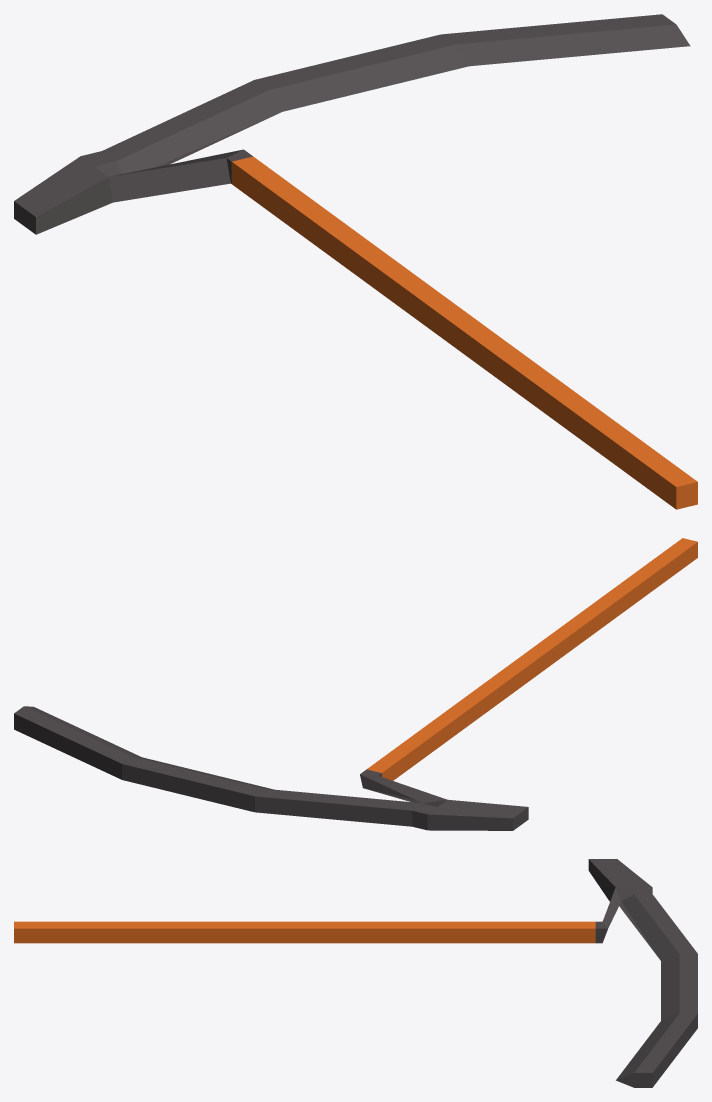
File: iron_sythe.glb
3 renders of one model, top to bottom at view 1: azimuth 30°, elevation 25°; view 2: azimuth 150°, elevation 25°; view 3: azimuth 270°, elevation 25°, orthographic. The views are drawn at different scales.
Visible parts, largest first — view 1: Cube; view 2: Cube; view 3: Cube.
Part boxes in pixels (left/top/right/bottom): Cube: left=14, top=14, right=697, bottom=509; Cube: left=14, top=538, right=697, bottom=830; Cube: left=14, top=859, right=697, bottom=1087.
Bounding box in the file's own units: 14.46 × 0.4621 × 19.39.
